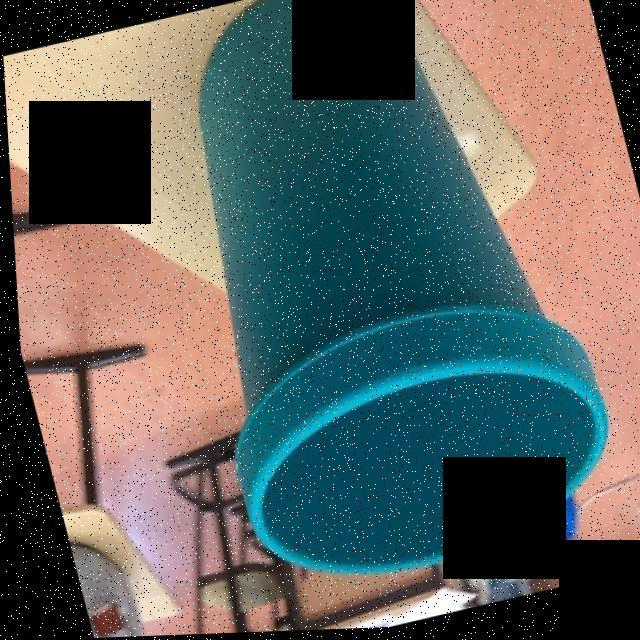bin: (98, 0, 637, 629)
